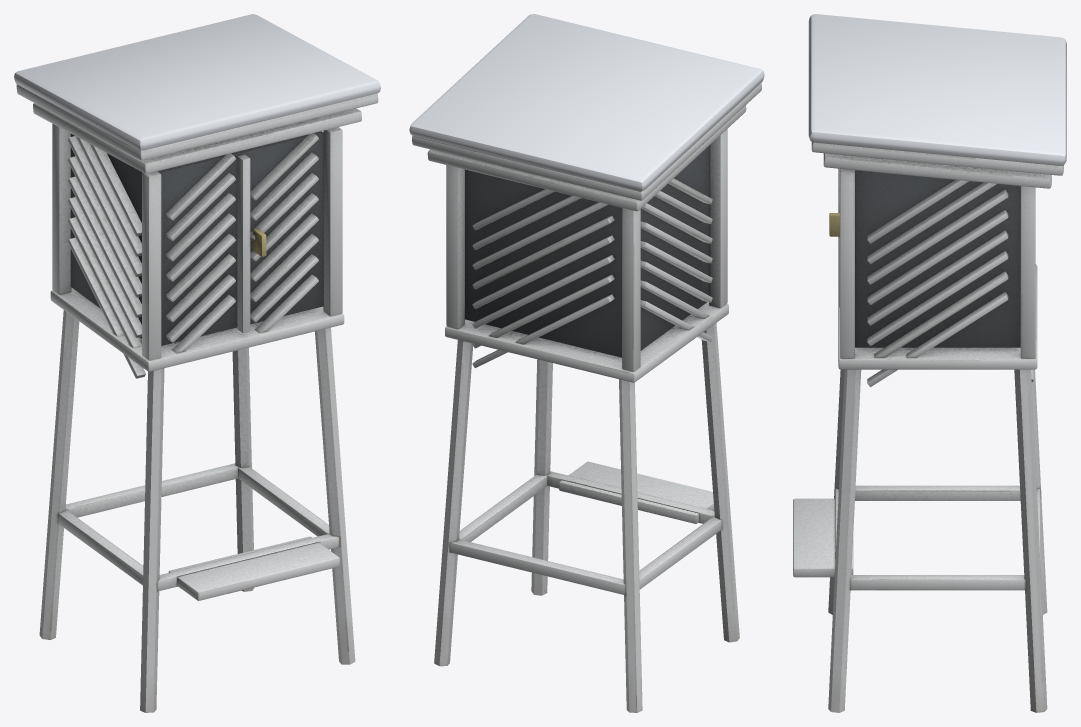
File: meteo_screen.glb
3 views of the same model, side by side, from view 1: azimuth 30°, elevation 25°; view 2: azimuth 150°, elevation 25°; view 3: azimuth 270°, elevation 25° (orthographic). The views are drawn at different scales.
Visible parts, largest first — view 1: meteo_screen; view 2: meteo_screen; view 3: meteo_screen.
Boxes of the visible parts, x1,y1,x2,y2 form: meteo_screen: (14,14,380,712); meteo_screen: (409,14,764,712); meteo_screen: (793,14,1066,712).
Size of the model in its own units: 0.94 by 2.16 by 0.9082.
1 material, 1 textured.
